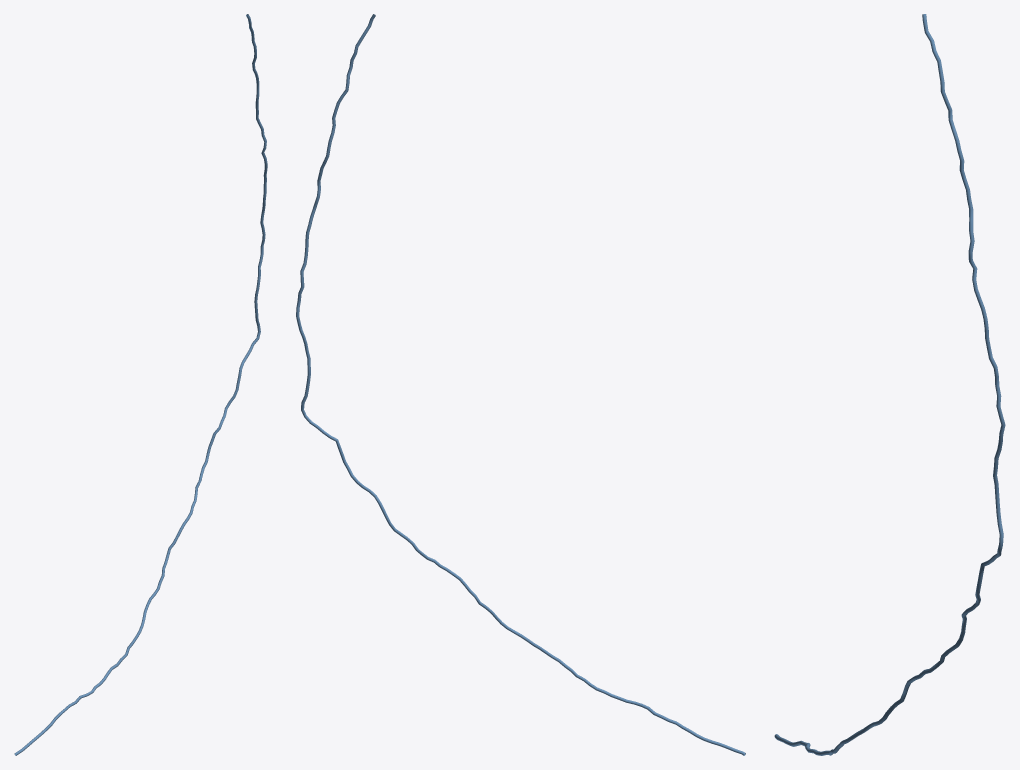
The model's file is sweep127.fbx.
3 views of the same model, side by side, from view 1: azimuth 30°, elevation 25°; view 2: azimuth 150°, elevation 25°; view 3: azimuth 270°, elevation 25° (orthographic). The views are drawn at different scales.
Visible parts, largest first — view 1: sweep127; view 2: sweep127; view 3: sweep127.
Boxes of the visible parts, x1=… form: sweep127: x1=14, y1=14, x2=267, y2=755; sweep127: x1=296, y1=14, x2=745, y2=755; sweep127: x1=774, y1=14, x2=1005, y2=755.
Bounding box in the file's own units: 2.52 × 4.69 × 1.06.
